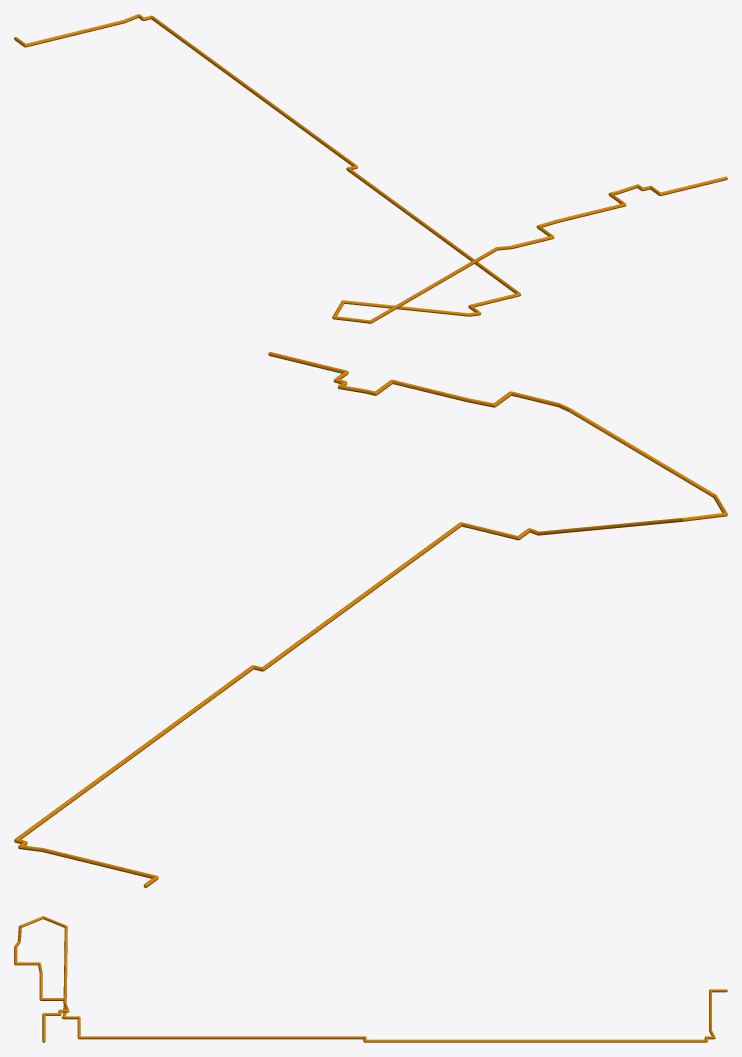
The picture shows the model from 3 angles, top to bottom: view 1: azimuth 30°, elevation 25°; view 2: azimuth 150°, elevation 25°; view 3: azimuth 270°, elevation 25°; orthographic projection. The views are drawn at different scales.
Size of the model in its own units: 2402 by 520 by 4496.
